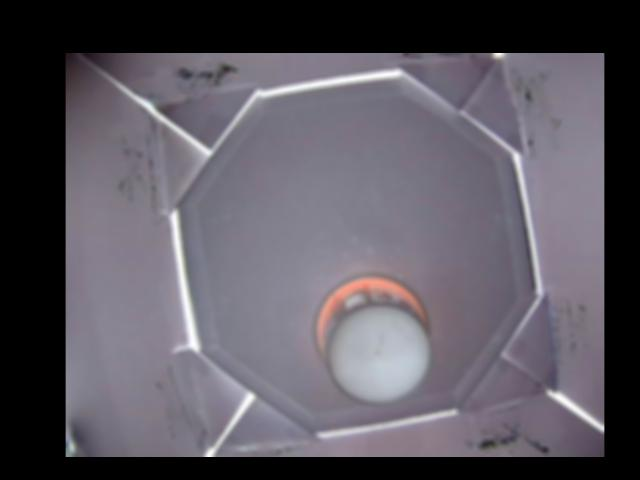Cup: (313, 271, 433, 404)
